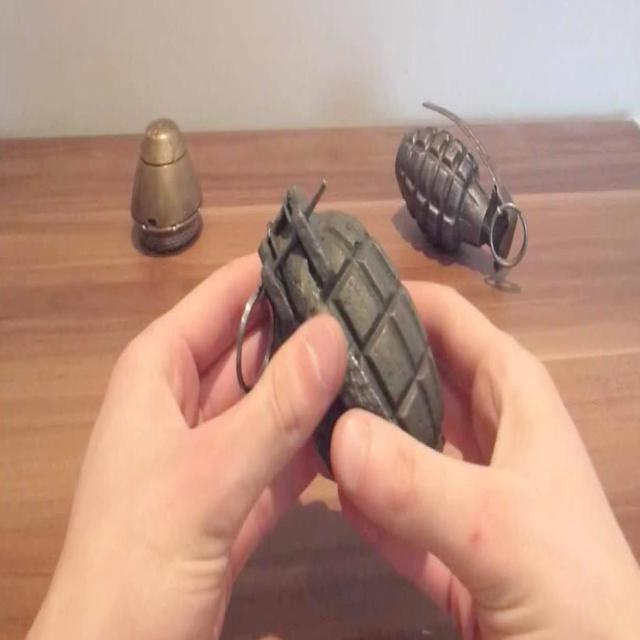grenade: (237, 179, 446, 465), (394, 100, 530, 275)
